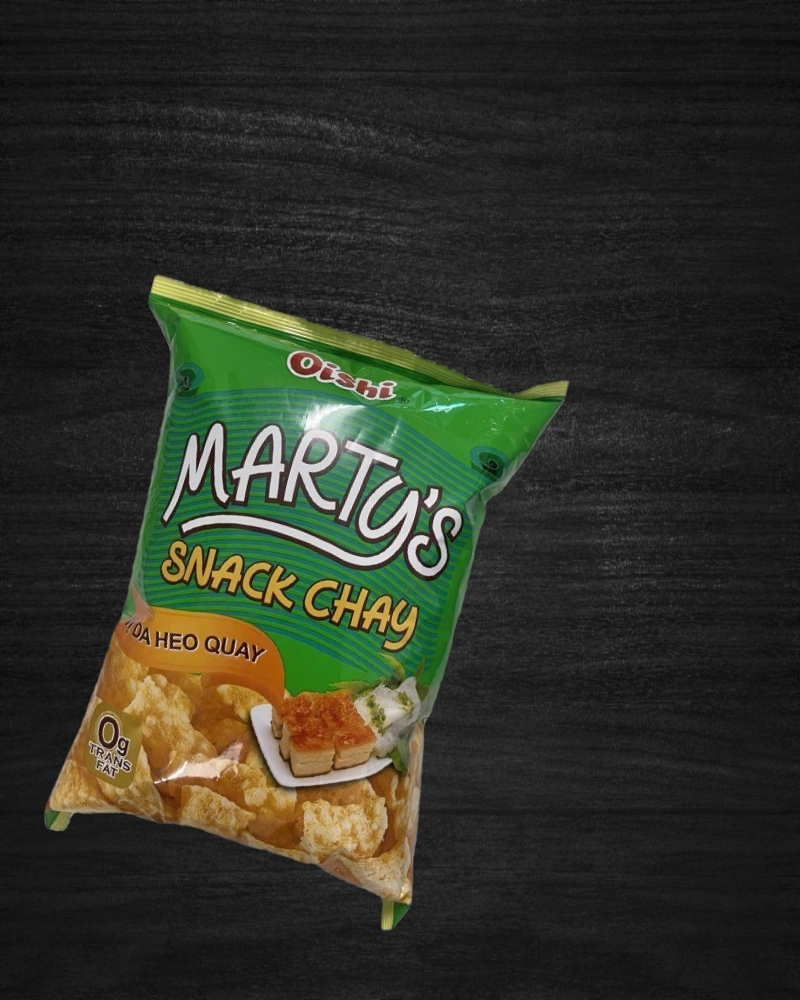Snack chay: (6, 270, 571, 942)
